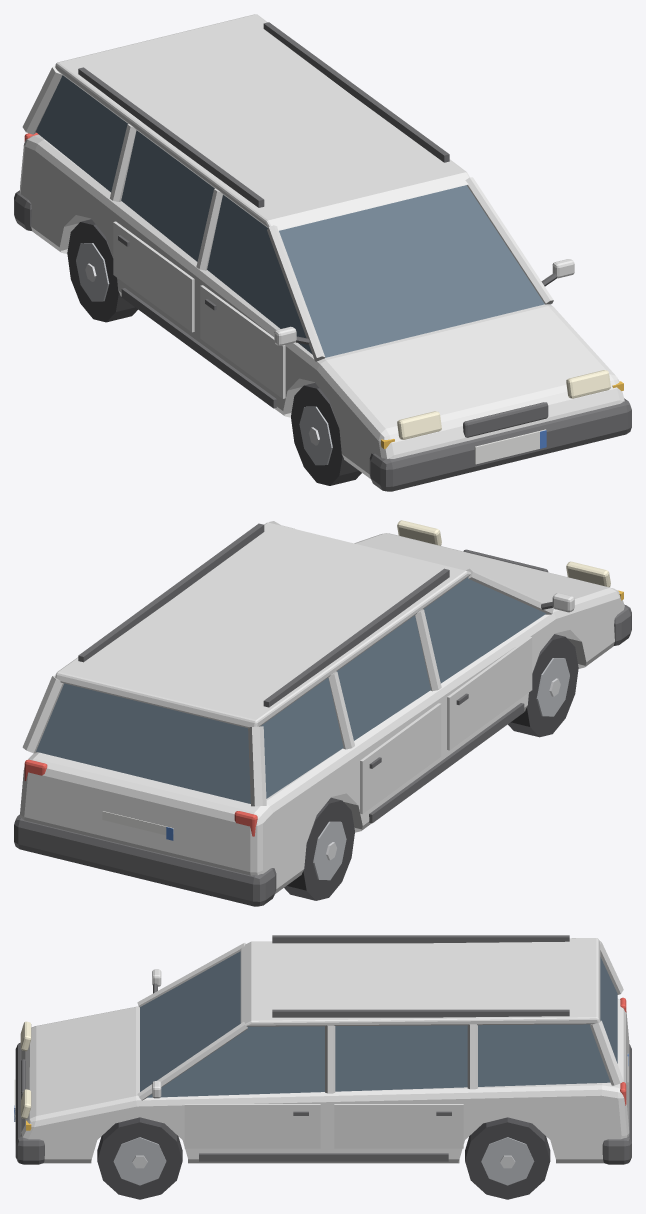
Rendered from car-estate.glb.
3 views of the same model, one above another, from view 1: azimuth 30°, elevation 25°; view 2: azimuth 150°, elevation 25°; view 3: azimuth 270°, elevation 25° (orthographic). The views are drawn at different scales.
Visible parts, largest first — view 1: body, detach_bumper_front, detach_door_right, wheel-front-right, wheel-back-right; view 2: body, detach_bumper_back, detach_door_right, wheel-back-right, wheel-front-right, detach_bumper_front; view 3: body, detach_door_left, wheel-front-left, wheel-back-left, detach_bumper_front, detach_bumper_back.
Part boxes in pixels (x1=…): body: x1=20, y1=14, x2=624, y2=478; detach_bumper_front: x1=369, y1=398, x2=631, y2=491; detach_door_right: x1=200, y1=285, x2=285, y2=398; wheel-front-right: x1=291, y1=383, x2=361, y2=485; wheel-back-right: x1=67, y1=219, x2=137, y2=322; body: x1=20, y1=520, x2=624, y2=893; detach_bumper_back: x1=14, y1=814, x2=276, y2=906; detach_door_right: x1=447, y1=636, x2=532, y2=750; wheel-back-right: x1=284, y1=797, x2=354, y2=900; wheel-front-right: x1=508, y1=634, x2=578, y2=737; detach_bumper_front: x1=613, y1=604, x2=631, y2=645; body: x1=20, y1=935, x2=629, y2=1163; detach_door_left: x1=184, y1=1104, x2=320, y2=1148; wheel-front-left: x1=97, y1=1117, x2=182, y2=1199; wheel-back-left: x1=465, y1=1117, x2=550, y2=1199; detach_bumper_front: x1=14, y1=1042, x2=44, y2=1164; detach_bumper_back: x1=602, y1=1044, x2=631, y2=1164.
Bounding box in the file's own units: 2.18 × 1.52 × 4.77.
